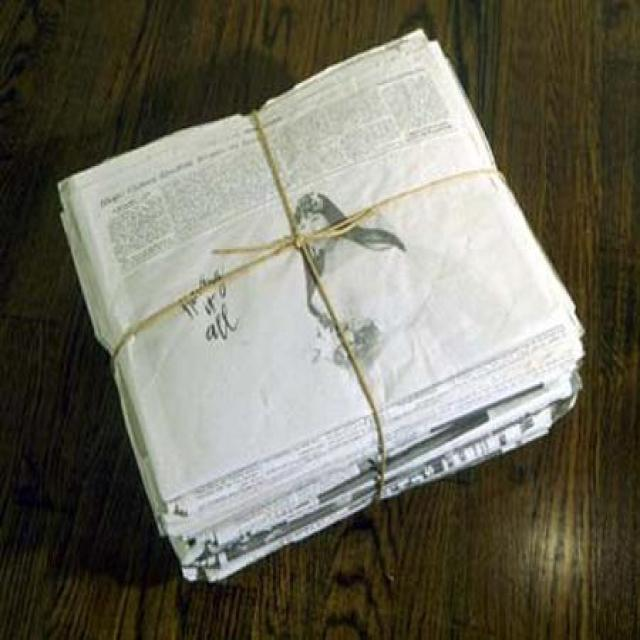paper: (56, 23, 590, 586)
